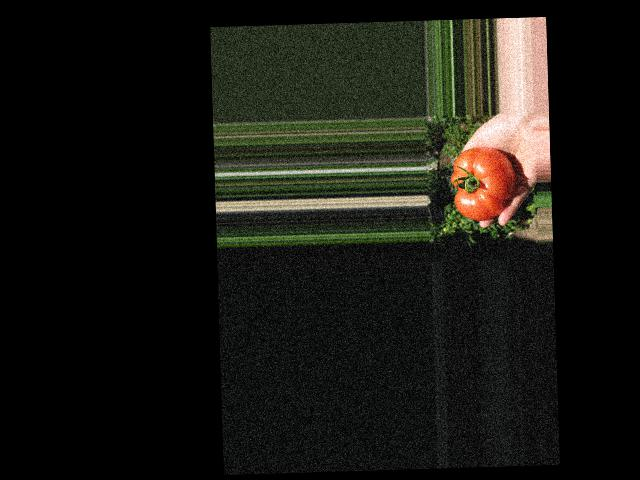tomato: (450, 147, 515, 222)
